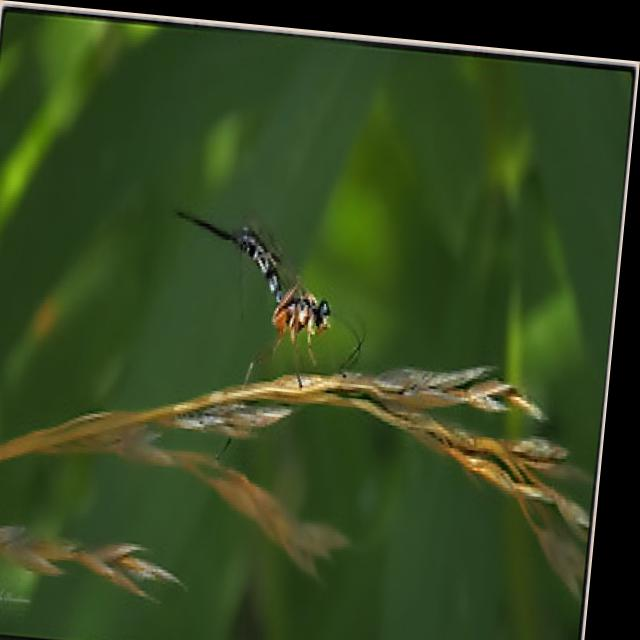Guepe: (159, 146, 383, 415)
